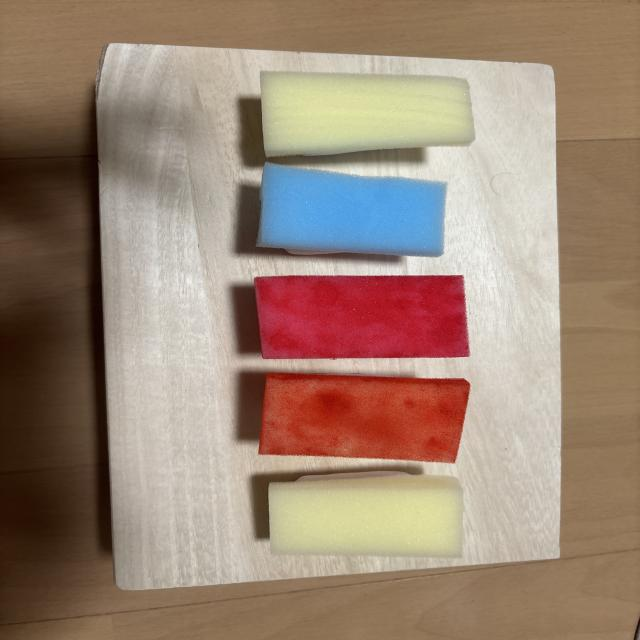ika: (257, 163, 447, 257)
maguro: (255, 275, 469, 359)
salmon: (259, 373, 469, 463)
tamago: (261, 71, 474, 157), (269, 472, 463, 557)
